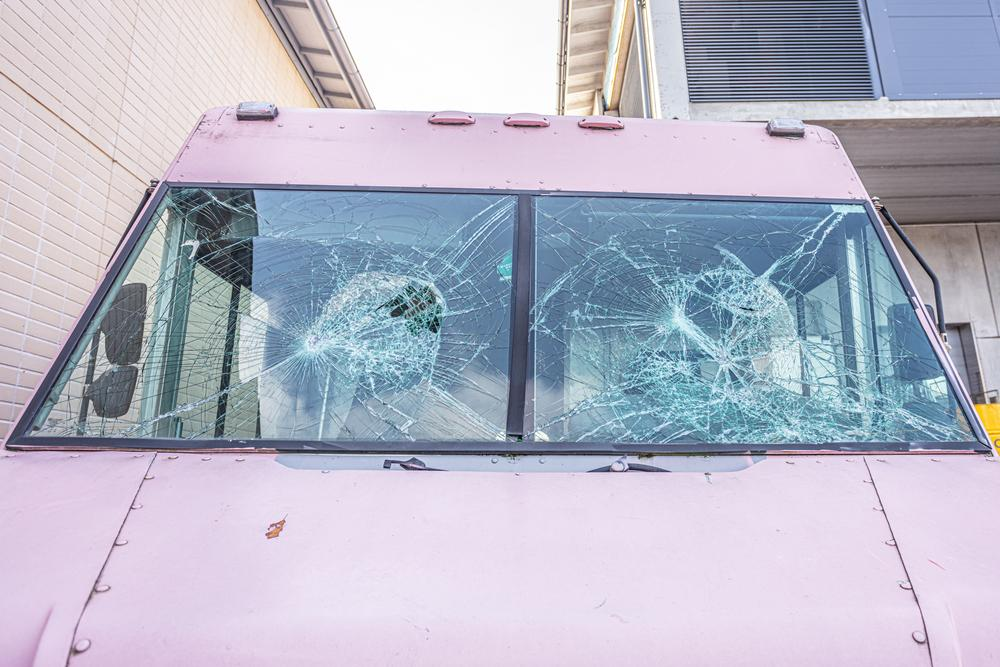glass shatter: (20, 186, 518, 442), (532, 196, 980, 445)
